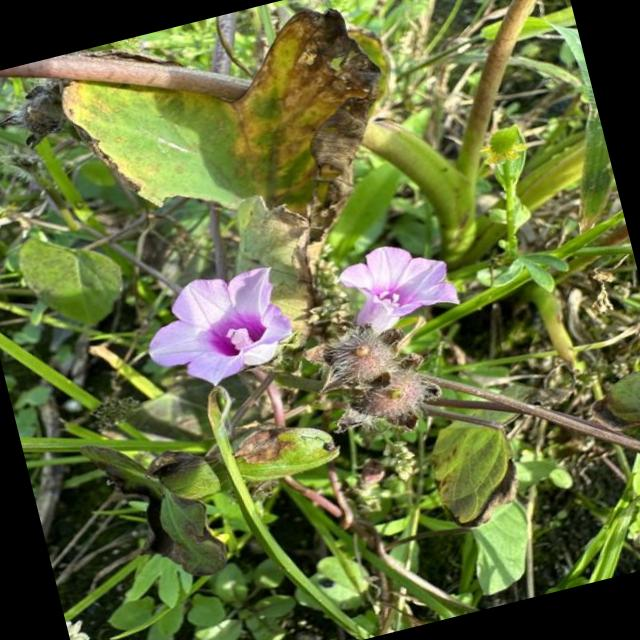ipomoea: (128, 255, 306, 402), (327, 228, 466, 343)
